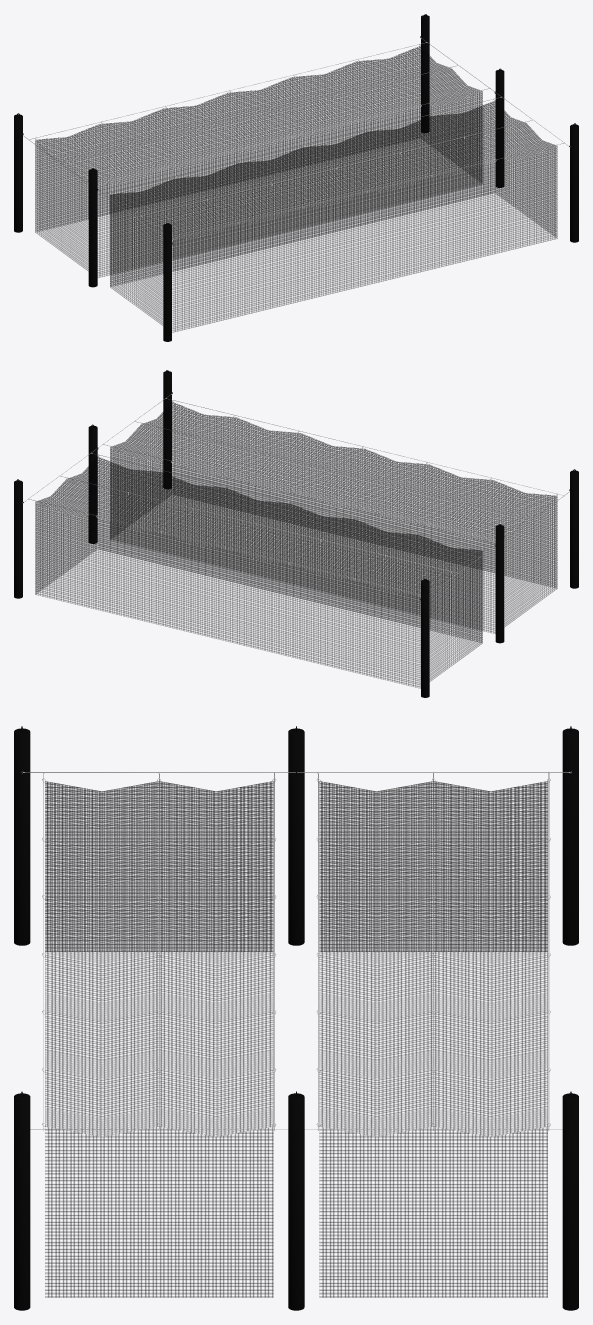
Rendered from Outdoor Pro 2x55.glb.
3 renders of one model, top to bottom at view 1: azimuth 30°, elevation 25°; view 2: azimuth 150°, elevation 25°; view 3: azimuth 270°, elevation 25°, orthographic. The views are drawn at different scales.
Visible parts, largest first — view 1: Playground.013, Frame.014; view 2: Playground.013, Frame.014; view 3: Playground.013, Frame.014.
Boxes of the visible parts, x1,y1,x2,y2 form: Playground.013: (35, 45, 557, 332); Frame.014: (14, 14, 578, 341); Playground.013: (35, 401, 557, 688); Frame.014: (14, 370, 578, 697); Playground.013: (45, 781, 547, 1297); Frame.014: (14, 726, 578, 1310).
Size of the model in its own units: 16.98 by 4.59 by 10.9.
4 materials, 1 textured.
